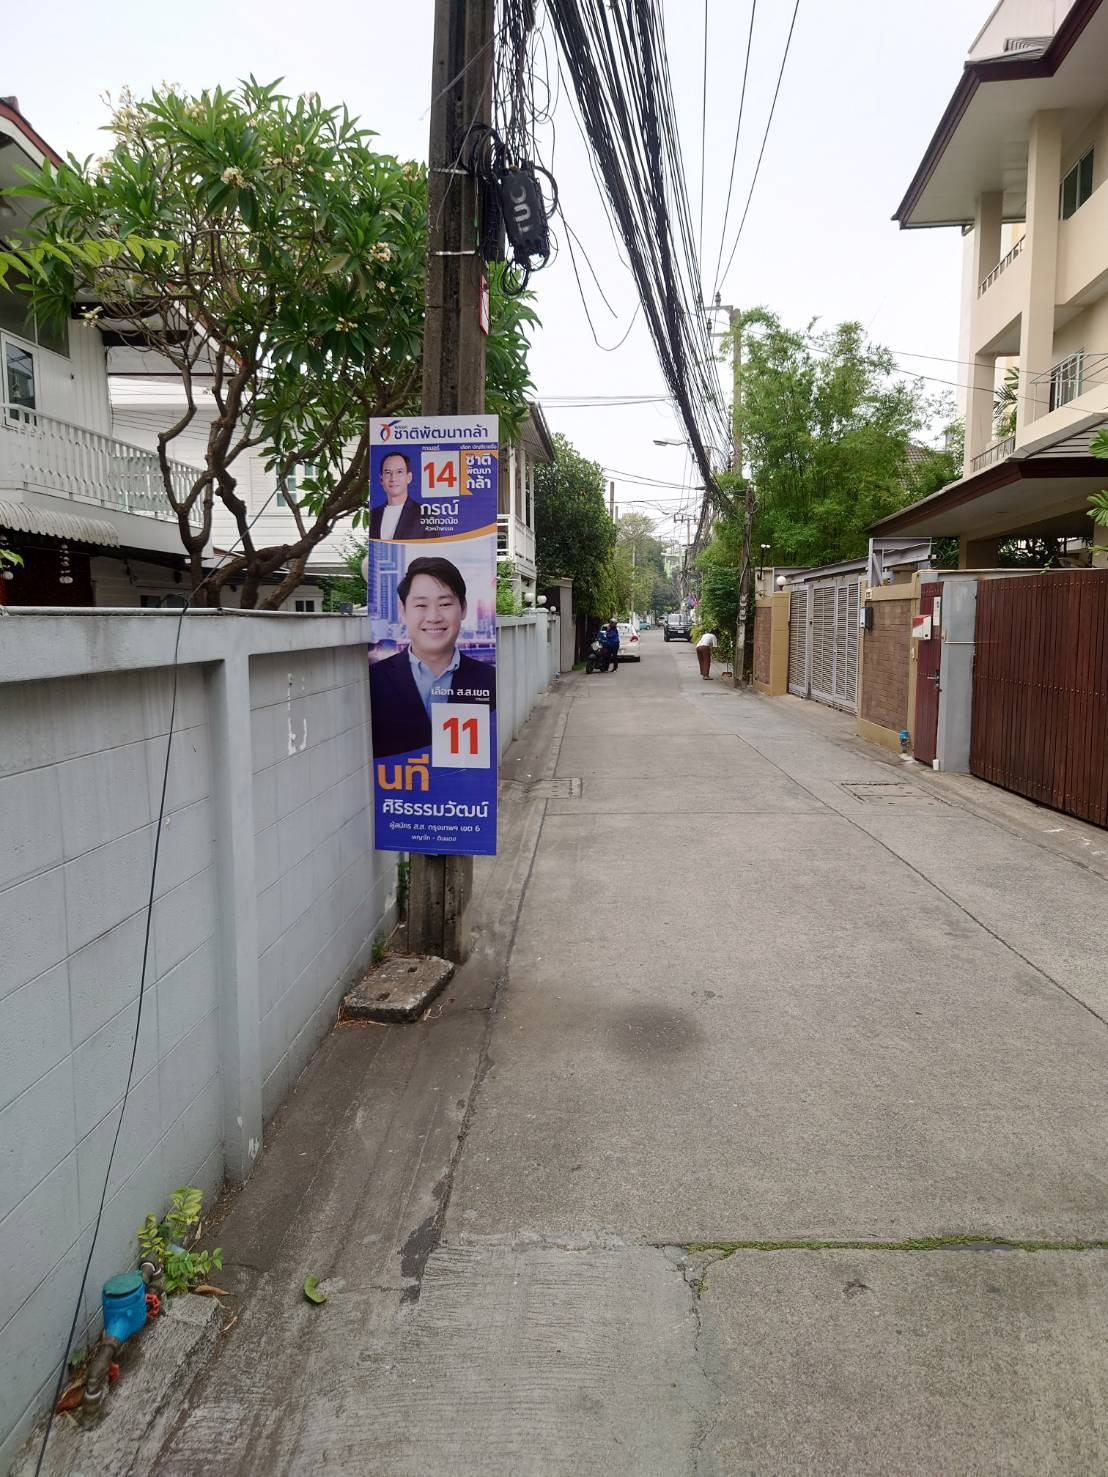Banner: (353, 416, 503, 864)
